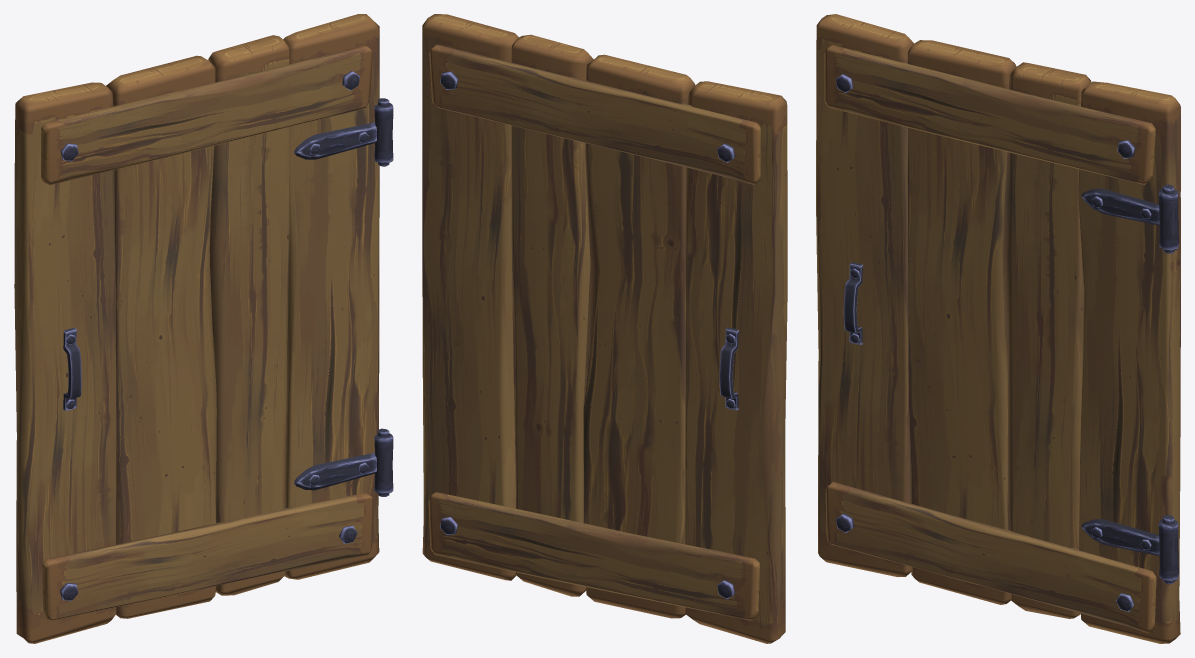
Rendered from SM_MOD_door_town_01.fbx.
3 views of the same model, side by side, from view 1: azimuth 30°, elevation 25°; view 2: azimuth 150°, elevation 25°; view 3: azimuth 330°, elevation 25° (orthographic).
Parts seen in each view (by area): view 1: SM_MOD_door_town_01_LOD0; view 2: SM_MOD_door_town_01_LOD0; view 3: SM_MOD_door_town_01_LOD0.
Part boxes in pixels (x1=…): SM_MOD_door_town_01_LOD0: x1=14, y1=14, x2=393, y2=643; SM_MOD_door_town_01_LOD0: x1=422, y1=14, x2=787, y2=643; SM_MOD_door_town_01_LOD0: x1=816, y1=14, x2=1180, y2=643.
Size of what is drawn, in the model's own units: 150 by 213 by 21.93.
